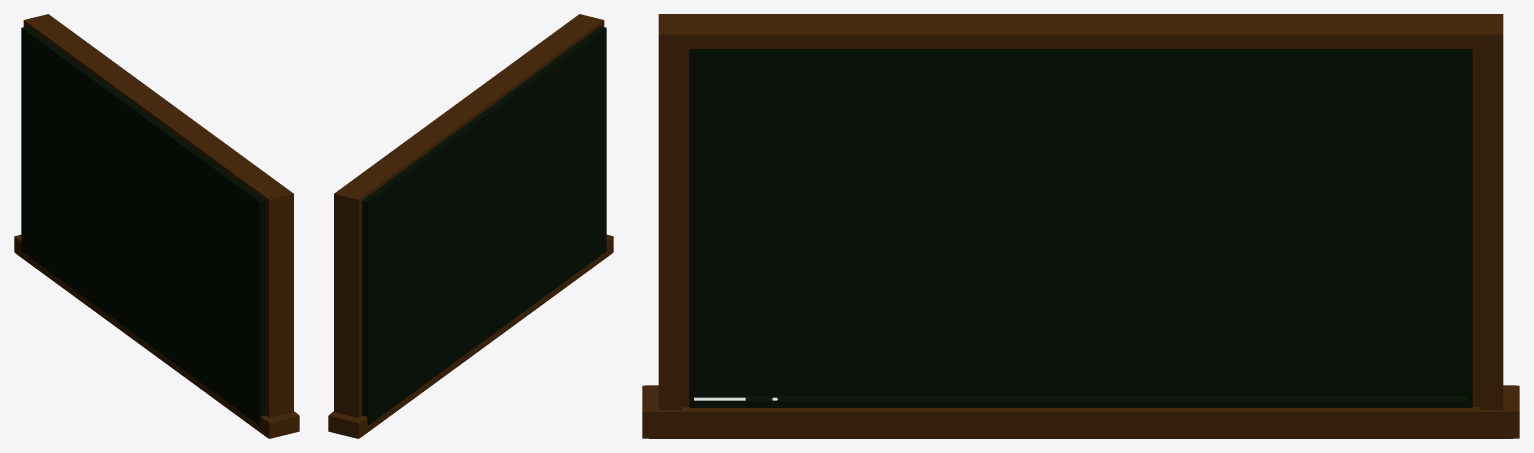
The model's file is BBoard.fbx.
The picture shows the model from 3 angles, left to right: view 1: azimuth 30°, elevation 25°; view 2: azimuth 150°, elevation 25°; view 3: azimuth 270°, elevation 25°; orthographic projection. The views are drawn at different scales.
Visible parts, largest first — view 1: Cube, Cube.002, Cube.001; view 2: Cube, Cube.002, Cube.001; view 3: Cube, Cube.002, Cube.001.
Part boxes in pixels (bbox=[...]): Cube: bbox=[21, 26, 265, 425]; Cube.002: bbox=[23, 14, 293, 417]; Cube.001: bbox=[14, 234, 299, 438]; Cube: bbox=[362, 26, 606, 425]; Cube.002: bbox=[334, 14, 604, 417]; Cube.001: bbox=[328, 234, 613, 438]; Cube: bbox=[689, 49, 1472, 407]; Cube.002: bbox=[658, 14, 1503, 409]; Cube.001: bbox=[642, 385, 1519, 438].
Size of the model in its own units: 66.16 by 463 by 912.
